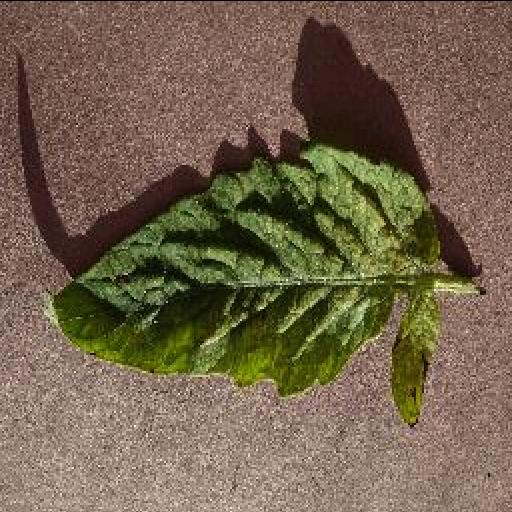disease_tomato: (40, 142, 444, 428)
